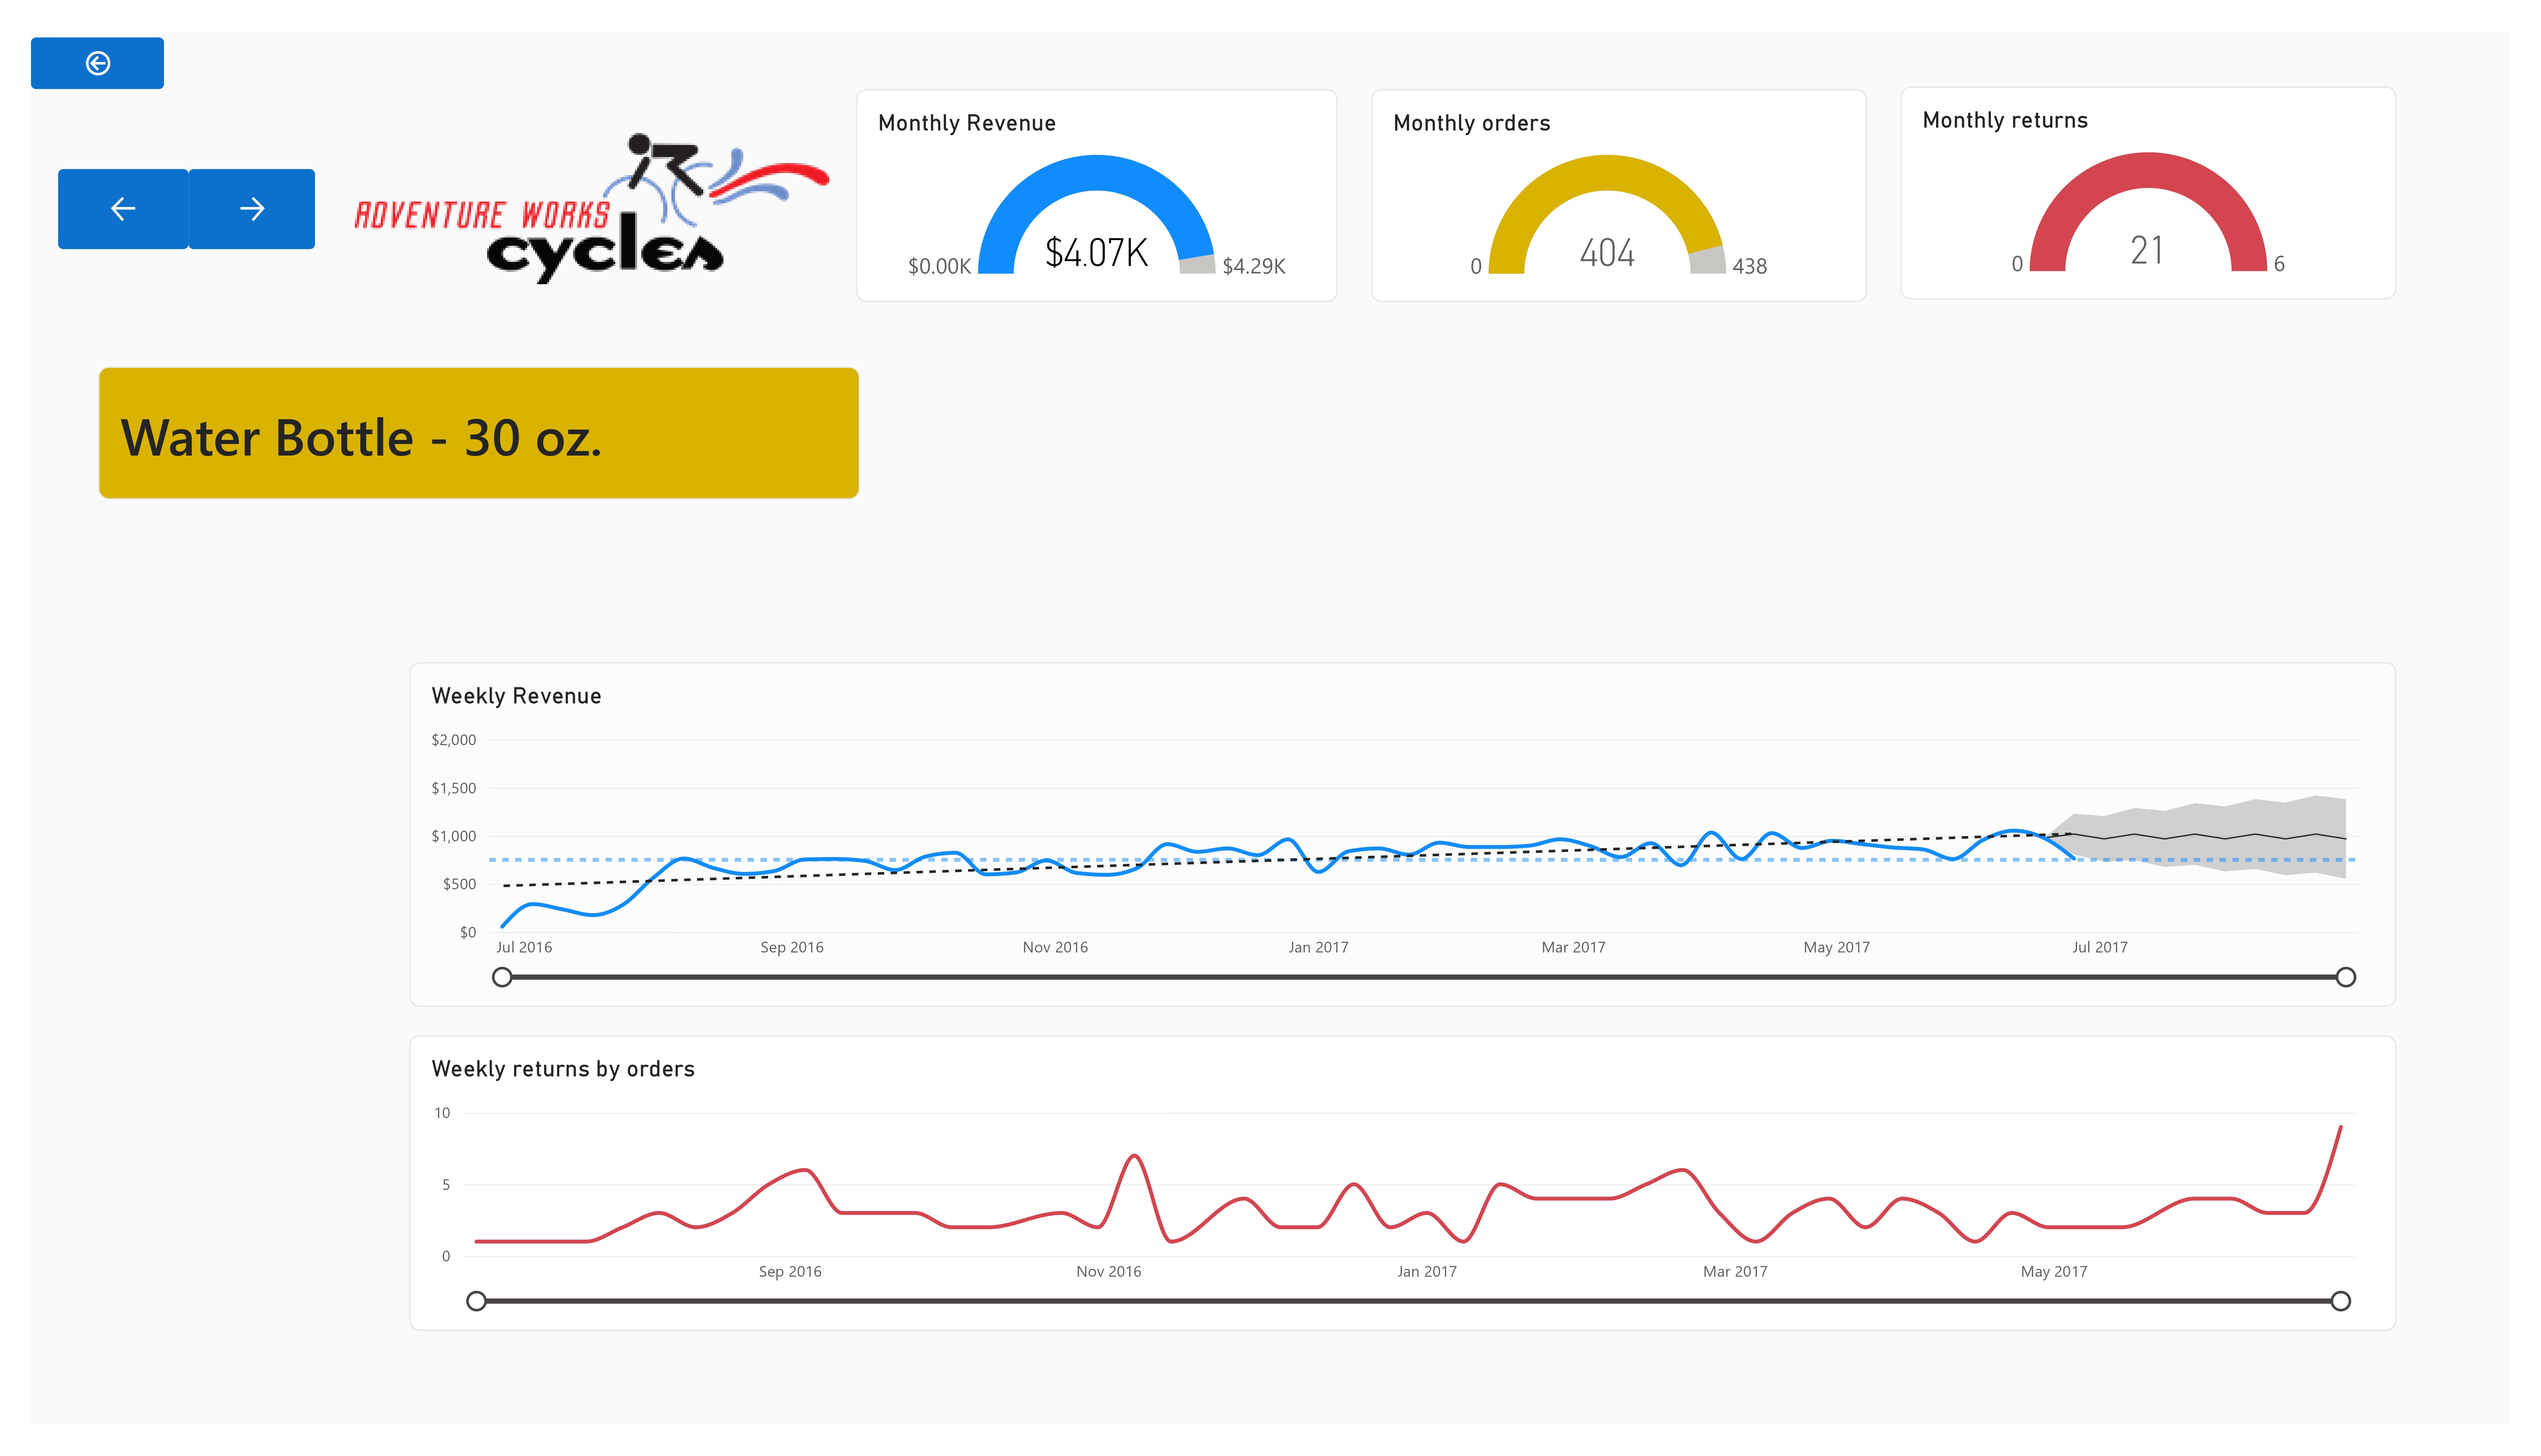

Layout of this report page (visuals, bound fields, positions):
{"tool":"powerbi","page":{"name":"Product details","canvas":[1920,1080],"ordinal":8},"visuals":[{"type":"lineChart","title":"Weekly returns by orders","fields":{"Category":["Calendar_lookup.Start of Week"],"Y":["Returns Data.total return"]},"box":[293.5,777.8,1538.9,229],"z":0},{"type":"lineChart","title":"Weekly Revenue","fields":{"Category":["Calendar_lookup.Start of Week"],"Y":["Sales data.Total revenue"]},"box":[293.5,489.1,1538.9,267.2],"z":1000},{"type":"gauge","title":"Monthly Revenue","fields":{"MaxValue":["Sales data.revenue target"],"Y":["Sales data.Total revenue"]},"box":[639.4,45.3,372.2,164.6],"z":2000},{"type":"gauge","title":"Monthly orders","fields":{"MaxValue":["Sales data.order target"],"Y":["Sales data.Total order cc"]},"box":[1037.9,45.3,384.1,164.6],"z":3000},{"type":"gauge","title":"Monthly returns","fields":{"MaxValue":["Sales data.prev month return"],"Y":["Returns Data.total return"]},"box":[1448.3,42.9,384.1,164.6],"z":4000},{"type":"image","box":[250.5,54.9,372,165],"z":5000},{"type":"cardVisual","fields":{"Data":["Min(Product_lookup.ProductName)"]},"box":[52.5,260.1,589.3,102.6],"z":6000},{"type":"actionButton","box":[0,4.8,102.6,40.6],"z":7000},{"type":"actionButton","box":[21.5,107.4,100.2,62],"z":8000},{"type":"actionButton","box":[121.7,107.4,97.8,62],"z":9000}]}

Visuals, with their boxes on the page's 1920x1080 design canvas (x1, y1, x2, y2). These are canvas units, not pixel positions in the 2541x1456 screenshot, which may show the page scaled, cropped or inside an application window:
"Weekly returns by orders" lineChart: [left=294, top=778, right=1832, bottom=1007]
"Weekly Revenue" lineChart: [left=294, top=489, right=1832, bottom=756]
"Monthly Revenue" gauge: [left=639, top=45, right=1012, bottom=210]
"Monthly orders" gauge: [left=1038, top=45, right=1422, bottom=210]
"Monthly returns" gauge: [left=1448, top=43, right=1832, bottom=208]
image: [left=250, top=55, right=622, bottom=220]
cardVisual - Min(Product_lookup.ProductName): [left=52, top=260, right=642, bottom=363]
actionButton: [left=0, top=5, right=103, bottom=45]
actionButton: [left=22, top=107, right=122, bottom=169]
actionButton: [left=122, top=107, right=220, bottom=169]
